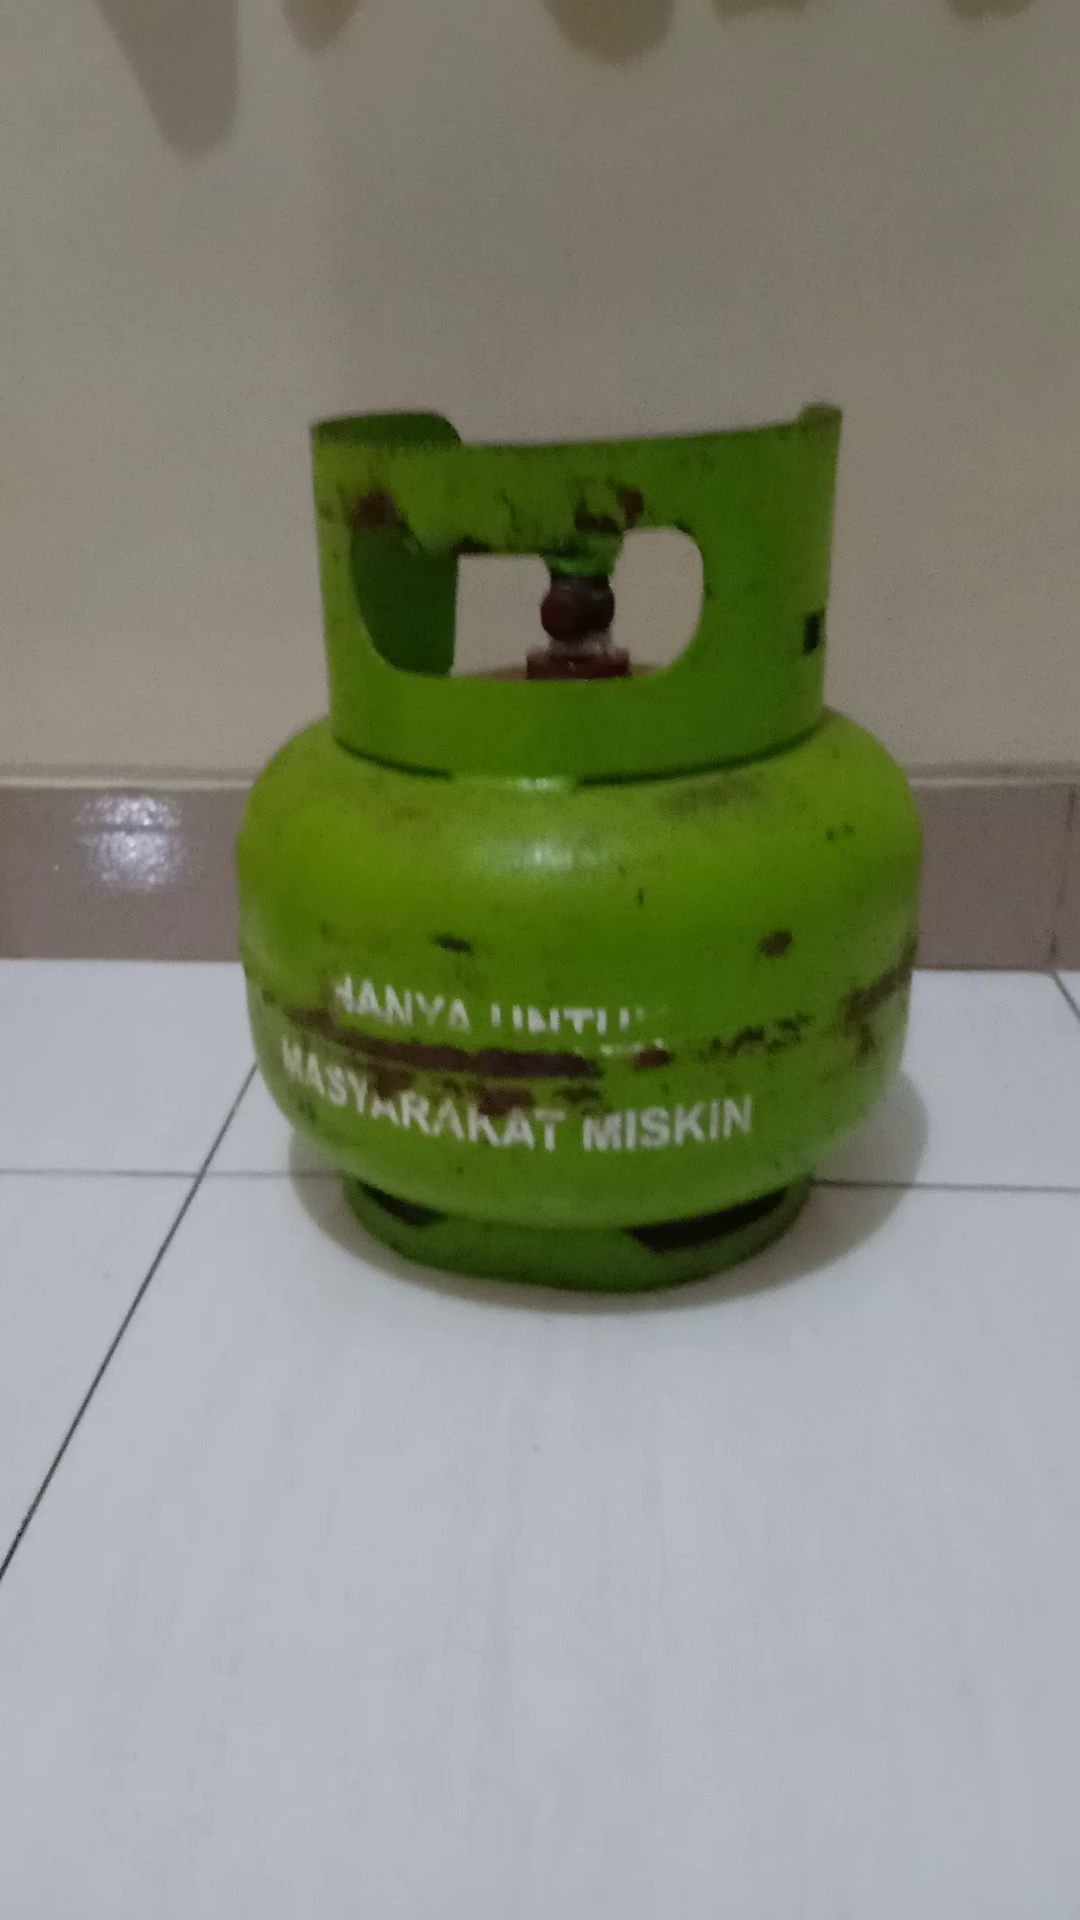gas_ijo: (233, 396, 928, 1296)
